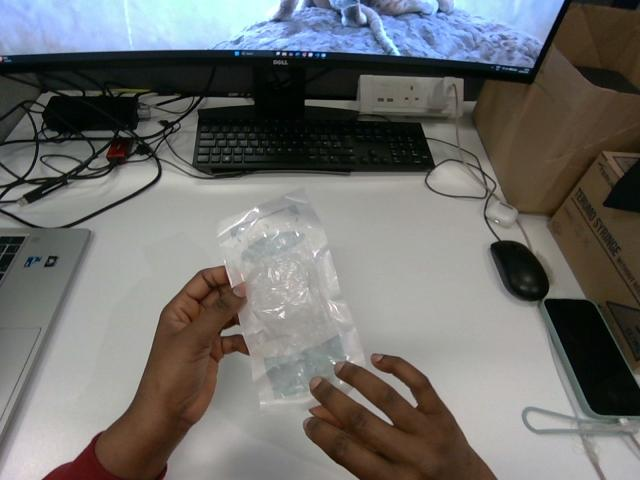gallipot: (217, 189, 363, 411)
